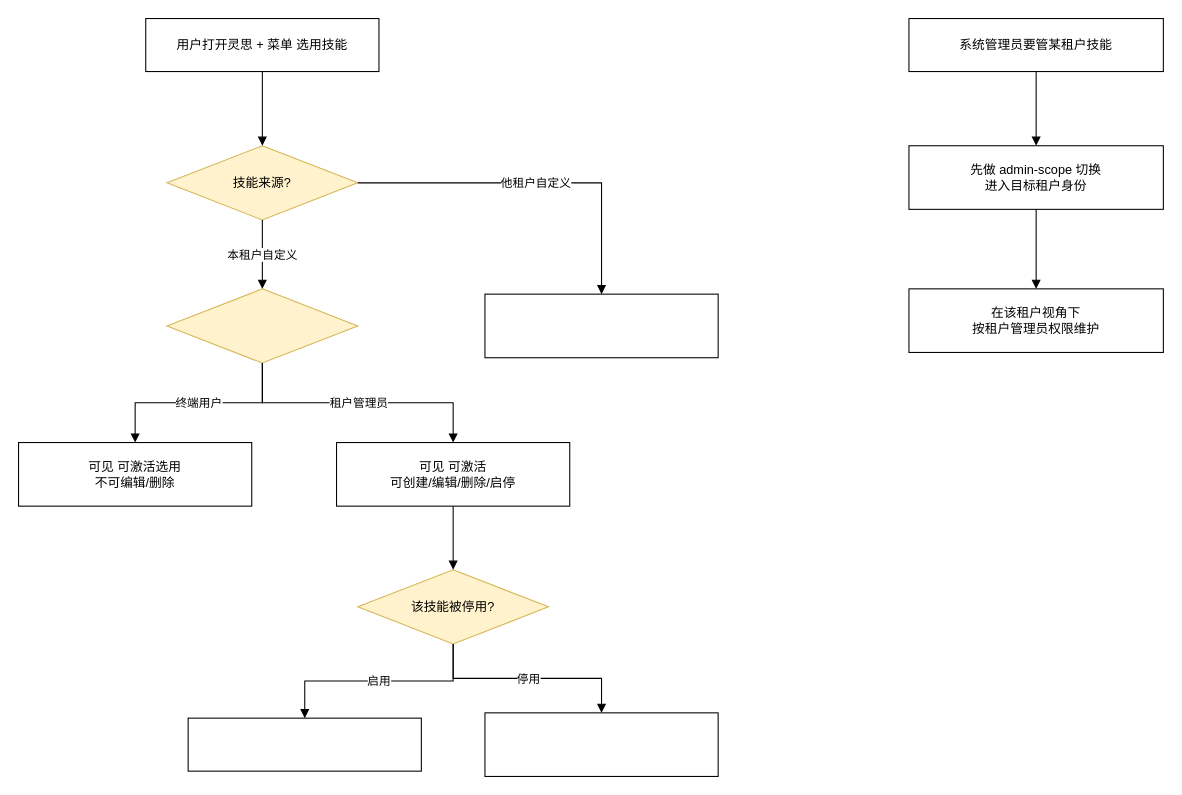
Some shapes in this 1182 by 795 pixel diagram are drawn without their labels. Each missing label, with the centre of its shape:
出现在输入区可选列表: [304,744]
当前角色?: [262,325]
根本不展示 列表里查不到 搜不出: [601,325]
输入区不再出现 已选中的本轮自动失效: [601,744]
